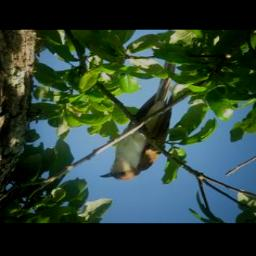Cuckoo: (95, 56, 179, 183)
